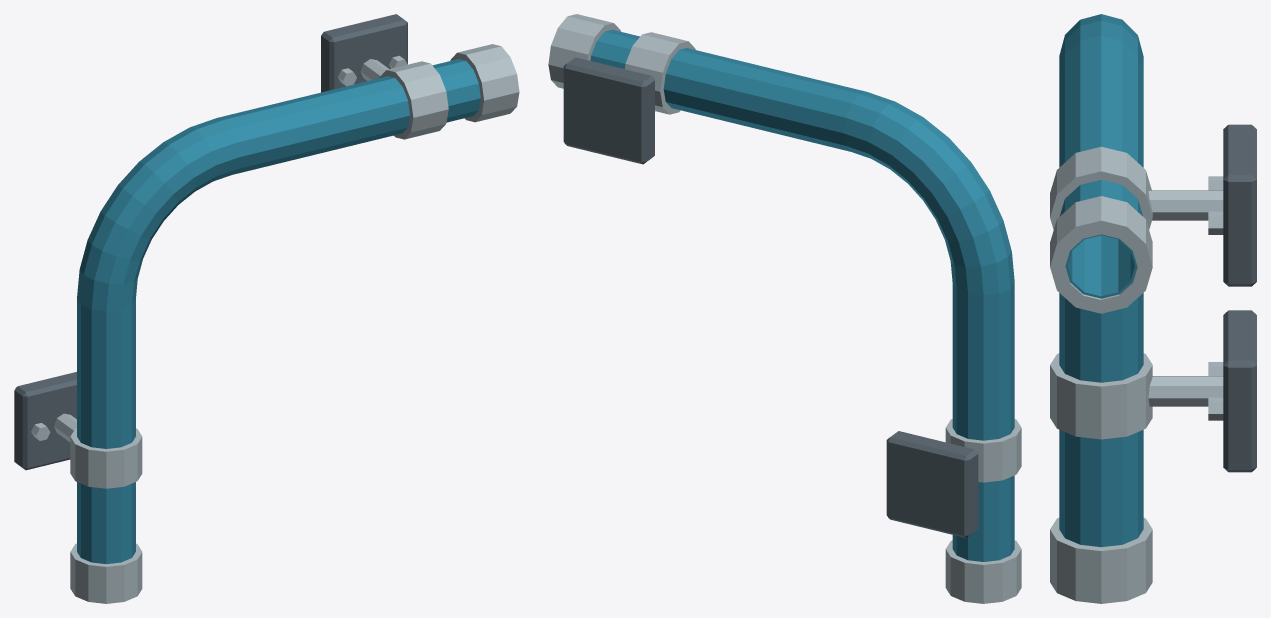
The model's file is 01_pipe_water_wall_elbow.glb.
3 views of the same model, side by side, from view 1: azimuth 30°, elevation 25°; view 2: azimuth 150°, elevation 25°; view 3: azimuth 270°, elevation 25° (orthographic). The views are drawn at different scales.
Visible parts, largest first — view 1: 01_pipe_water_wall_elbow; view 2: 01_pipe_water_wall_elbow; view 3: 01_pipe_water_wall_elbow.
Part boxes in pixels (x1,y1,x2,y2): 01_pipe_water_wall_elbow: (14,14,519,603); 01_pipe_water_wall_elbow: (548,14,1021,603); 01_pipe_water_wall_elbow: (1050,14,1256,603).
Size of the model in its own units: 1.1 by 1.1 by 0.3193.
